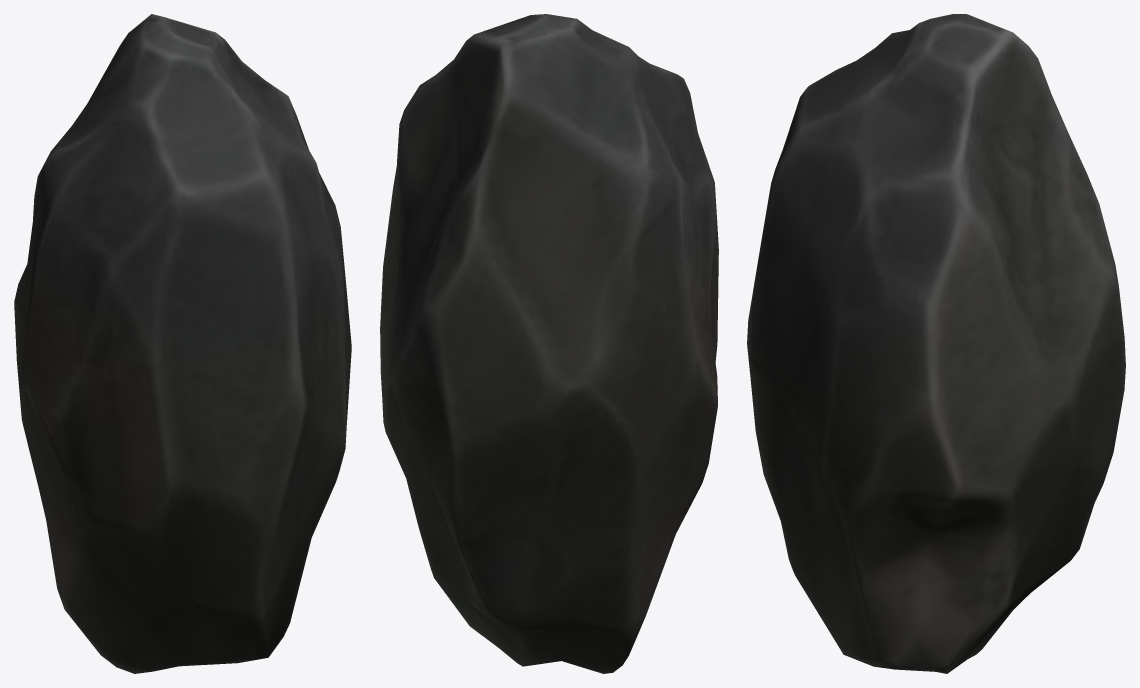
The model's file is shrine-49a0fe0f.glb.
3 renders of one model, left to right at view 1: azimuth 30°, elevation 25°; view 2: azimuth 150°, elevation 25°; view 3: azimuth 270°, elevation 25°, orthographic. The views are drawn at different scales.
Visible parts, largest first — view 1: Small_8_SMall_0; view 2: Small_8_SMall_0; view 3: Small_8_SMall_0.
Part boxes in pixels (left/top/right/bottom): Small_8_SMall_0: left=14, top=14, right=351, bottom=673; Small_8_SMall_0: left=380, top=14, right=718, bottom=673; Small_8_SMall_0: left=747, top=14, right=1125, bottom=673.
Size of the model in its own units: 41.16 by 77.84 by 42.11.
1 material, 1 textured.
